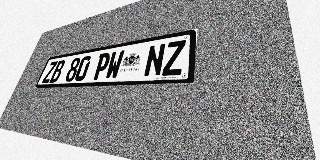0: (73, 55, 92, 81)
8: (64, 57, 82, 82)
B: (49, 60, 66, 83)
N: (143, 43, 166, 77)
P: (92, 52, 112, 80)
W: (104, 50, 125, 79)
Z: (162, 40, 186, 76), (41, 61, 58, 83)
